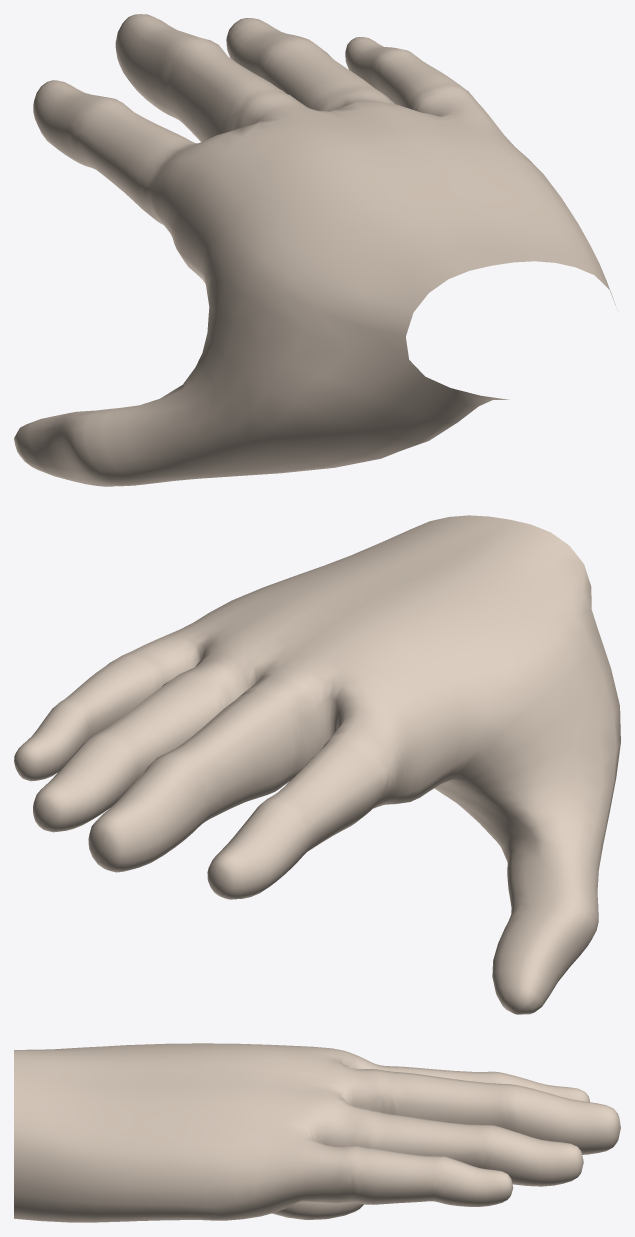
The model's file is 오른손.glb.
3 renders of one model, top to bottom at view 1: azimuth 30°, elevation 25°; view 2: azimuth 150°, elevation 25°; view 3: azimuth 270°, elevation 25°, orthographic. The views are drawn at different scales.
Parts seen in each view (by area): view 1: best_highpoly_hand; view 2: best_highpoly_hand; view 3: best_highpoly_hand.
Part boxes in pixels (x1,y1,x2,y2): best_highpoly_hand: [14, 14, 615, 486]; best_highpoly_hand: [14, 515, 620, 1014]; best_highpoly_hand: [14, 1043, 620, 1222].
Bounding box in the file's own units: 0.9948 × 0.6467 × 1.48.
